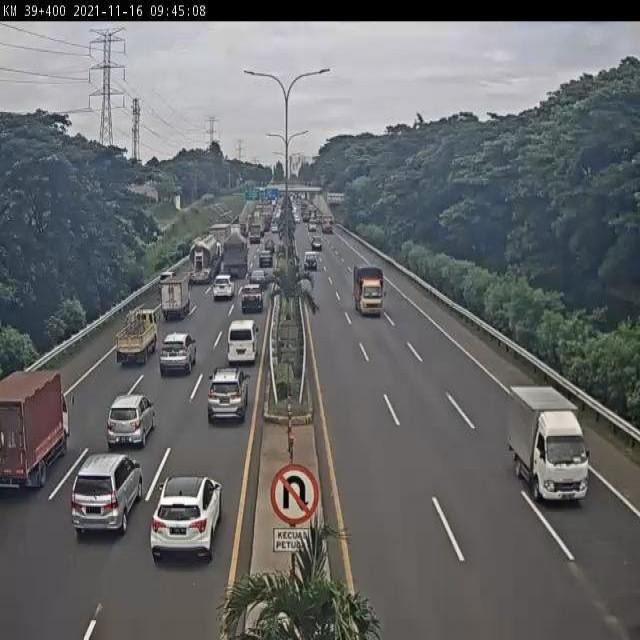car: (150, 473, 223, 563), (70, 454, 144, 534), (107, 394, 156, 446), (205, 371, 247, 428), (159, 329, 196, 375), (212, 274, 233, 302), (242, 286, 263, 314), (248, 268, 270, 292), (151, 276, 168, 299)
small bus: (227, 320, 257, 365)
small truck: (508, 386, 590, 506), (111, 308, 153, 368), (156, 280, 187, 323)
truck-l-: (221, 234, 248, 278)
truck-m-: (0, 374, 68, 489), (354, 264, 385, 316)
truck-xl-: (186, 236, 215, 284)
